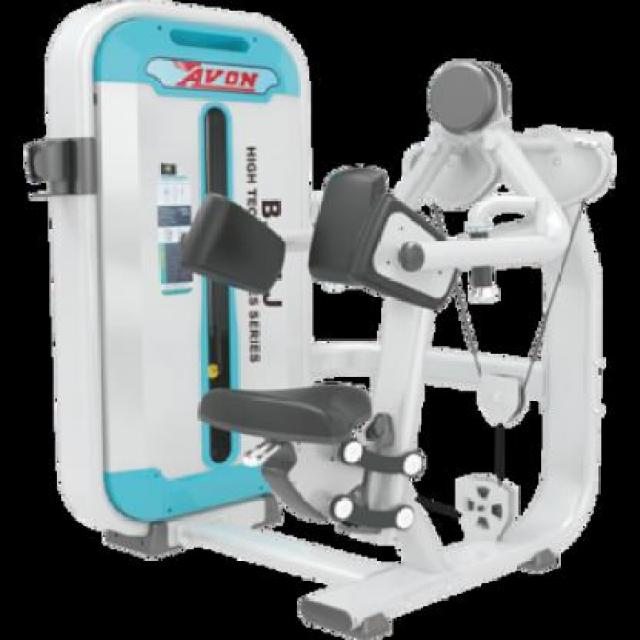lateral raises machine: (28, 0, 612, 640)
